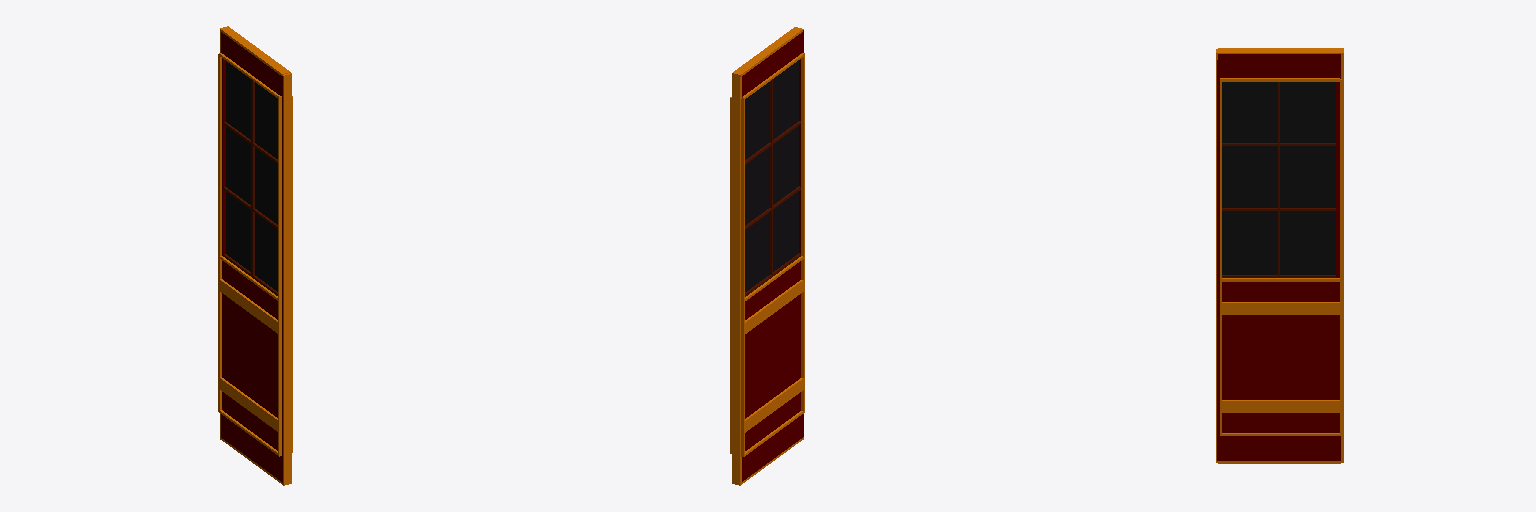
Rendered from Door1.obj.
3 renders of one model, left to right at view 1: azimuth 30°, elevation 25°; view 2: azimuth 150°, elevation 25°; view 3: azimuth 270°, elevation 25°, orthographic.
Visible parts, largest first — view 1: Door; view 2: Door; view 3: Door.
Part boxes in pixels (x1,y1,x2,y2): Door: (218, 26, 292, 485); Door: (730, 27, 804, 485); Door: (1216, 48, 1343, 463).
Size of the model in its own units: 1.95 by 57.04 by 16.08.